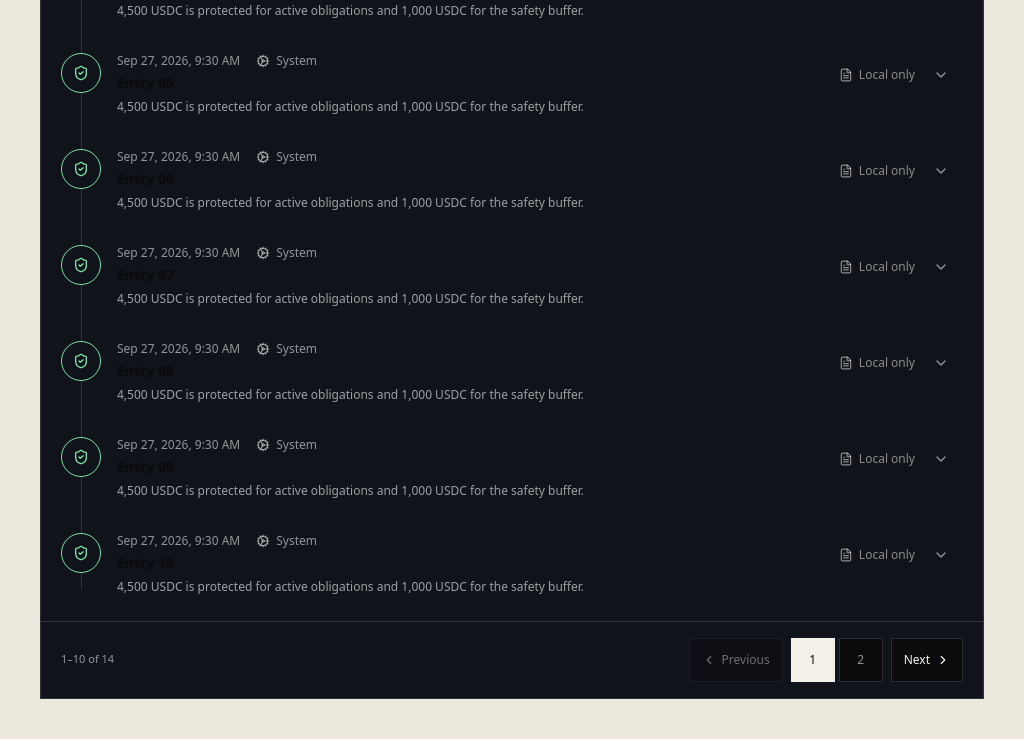
Test: activity ledger pagination › shows ten entries per page and the rest on the next one
(page scrolled)
Expected: the text "1–10 of 14" is shown, top-left (61, 651), bottom-right (114, 668)
Step 1. Click the button "Next" → {"x": 927, "y": 660}, box top-left (891, 638), bottom-right (963, 682)
(page scrolled)
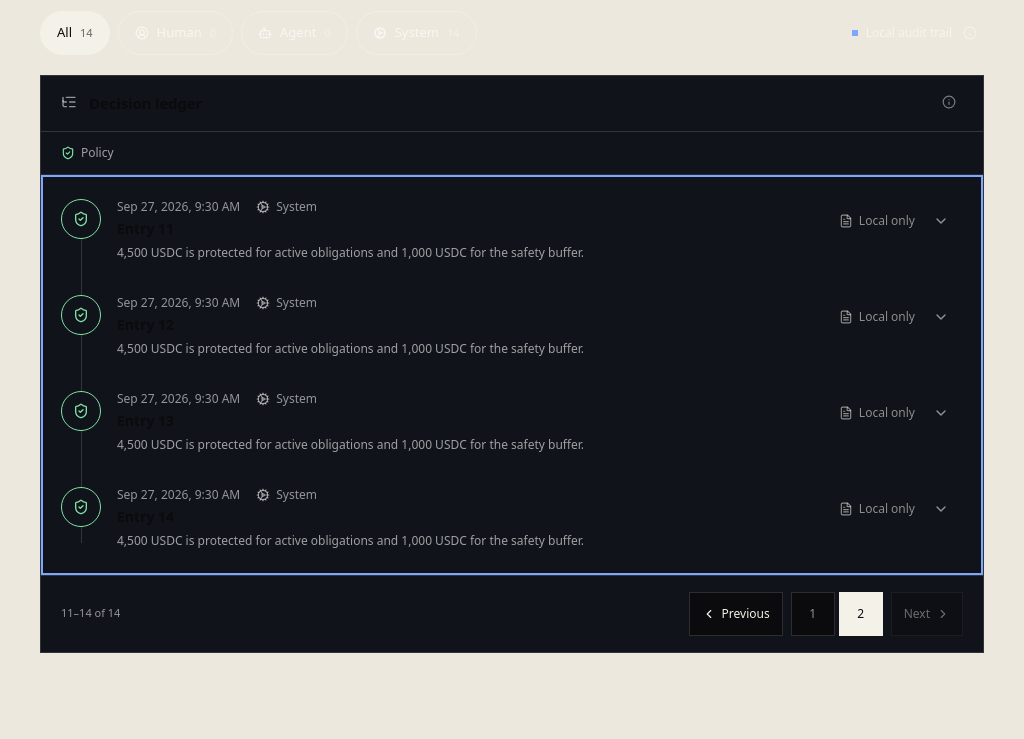
Result: the text "11–14 of 14" is shown at top-left (61, 605), bottom-right (120, 622)
Result: the button "Next" is disabled at top-left (891, 592), bottom-right (963, 636)
